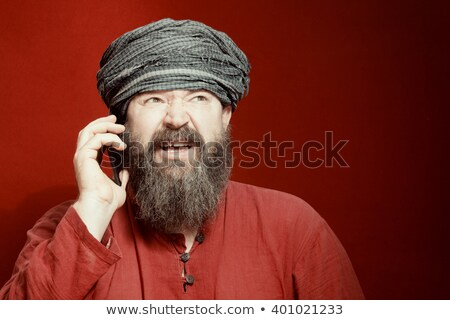phone: (92, 108, 133, 197)
talk: (68, 85, 233, 209)
